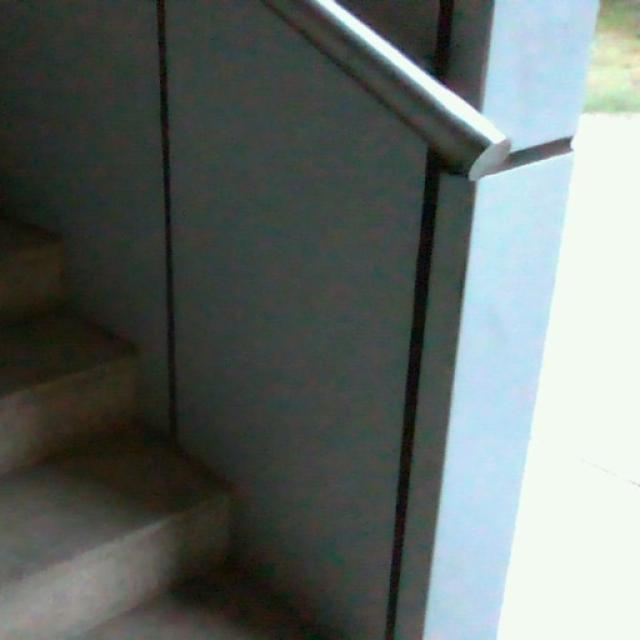stair: (0, 211, 276, 639)
